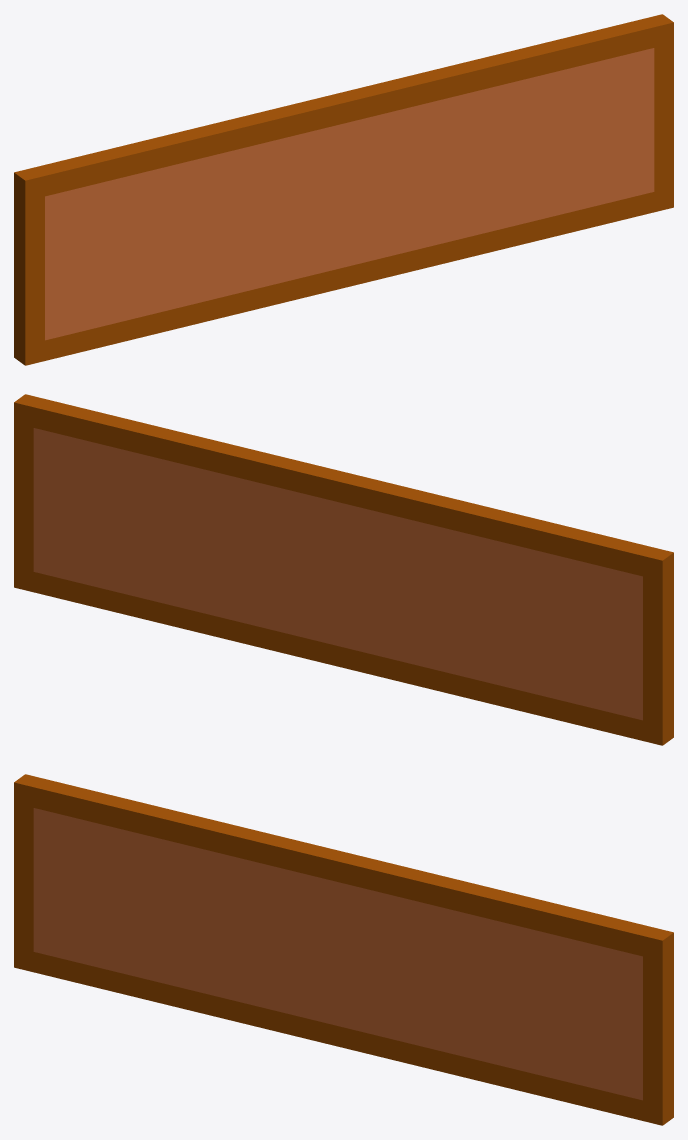
Rendered from BaseBoard.fbx.
The picture shows the model from 3 angles, top to bottom: view 1: azimuth 30°, elevation 25°; view 2: azimuth 150°, elevation 25°; view 3: azimuth 330°, elevation 25°; orthographic projection.
Parts seen in each view (by area): view 1: BaseBoard; view 2: BaseBoard; view 3: BaseBoard.
Part boxes in pixels (box(x1,y1,x2,y2)): BaseBoard: box(14, 14, 673, 365); BaseBoard: box(14, 394, 673, 745); BaseBoard: box(14, 774, 673, 1125).
Bounding box in the file's own units: 3300 × 900 × 100.
